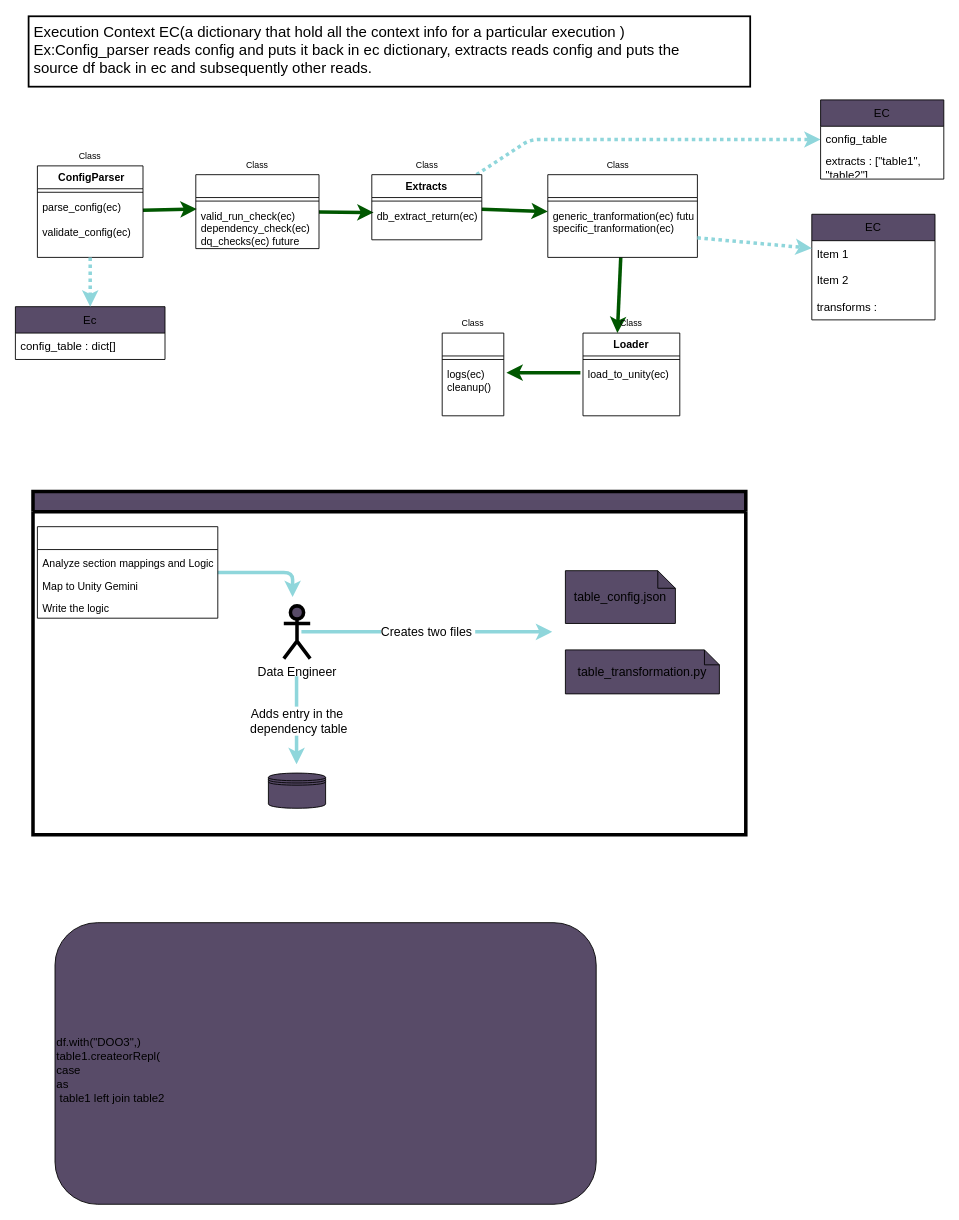
This 959x1220 diagram has some shape labels left out. Each missing label, with the box of its shape:
Adding a new table to the catalog: (31, 489, 747, 836)
Analyse Requirements: (37, 526, 218, 618)
Logger: (441, 332, 504, 416)
Transformer: (547, 174, 697, 257)
Validator: (195, 174, 319, 249)
